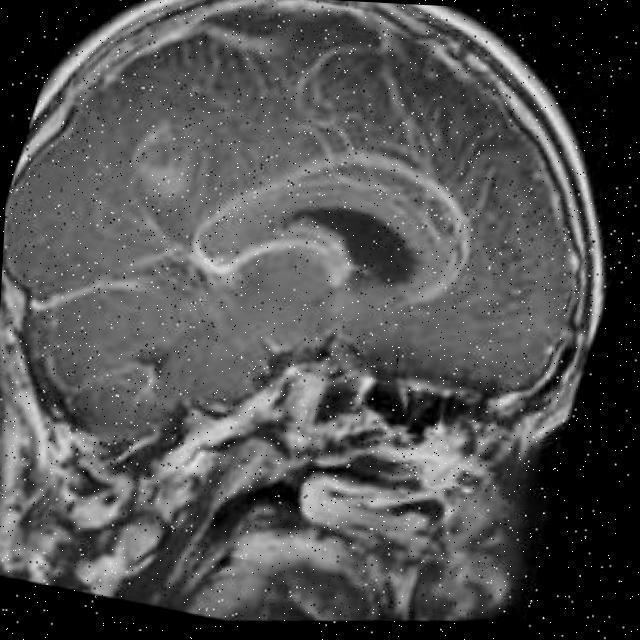LMCI: (195, 168, 434, 368)
